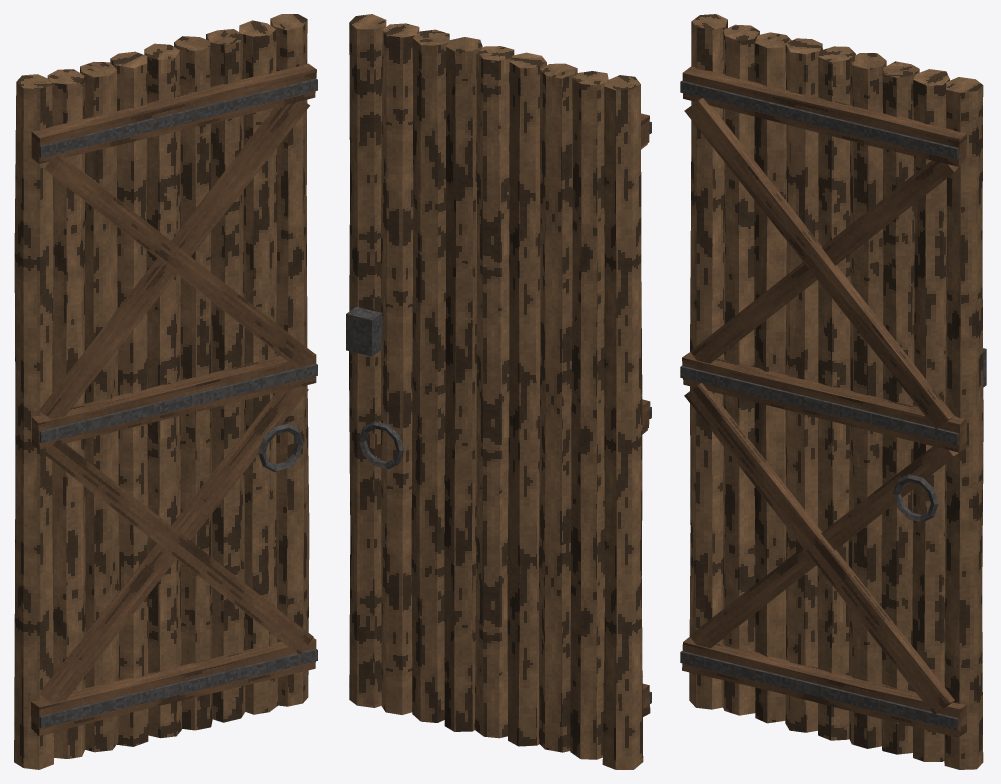
File: portao_pedra_gigante_esq.glb
3 renders of one model, left to right at view 1: azimuth 30°, elevation 25°; view 2: azimuth 150°, elevation 25°; view 3: azimuth 330°, elevation 25°, orthographic.
Visible parts, largest first — view 1: portao_pedra_gigante_esq_tronco, portao_pedra_gigante_esq_madeira_escura, portao_pedra_gigante_esq_ferro; view 2: portao_pedra_gigante_esq_tronco, portao_pedra_gigante_esq_ferro, portao_pedra_gigante_esq_madeira_escura; view 3: portao_pedra_gigante_esq_tronco, portao_pedra_gigante_esq_madeira_escura, portao_pedra_gigante_esq_ferro.
Boxes of the visible parts, x1,y1,x2,y2 form: portao_pedra_gigante_esq_tronco: (14,14,309,769); portao_pedra_gigante_esq_madeira_escura: (31,63,316,735); portao_pedra_gigante_esq_ferro: (39,78,317,728); portao_pedra_gigante_esq_tronco: (349,14,643,769); portao_pedra_gigante_esq_ferro: (346,121,651,703); portao_pedra_gigante_esq_madeira_escura: (641,113,650,716); portao_pedra_gigante_esq_tronco: (689,14,983,769); portao_pedra_gigante_esq_madeira_escura: (682,66,967,737); portao_pedra_gigante_esq_ferro: (680,80,986,730).
Bounding box in the file's own units: 3.29 × 7.47 × 0.838.
3 materials, 3 textured.
